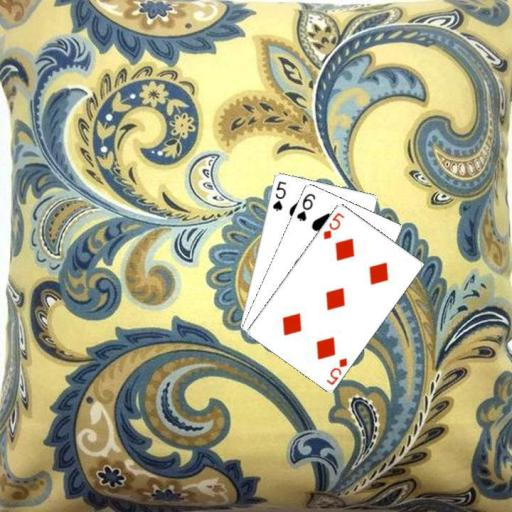5D: (320, 209, 346, 241), (323, 354, 348, 386)
5S: (270, 178, 288, 212)
6S: (294, 190, 317, 222)
